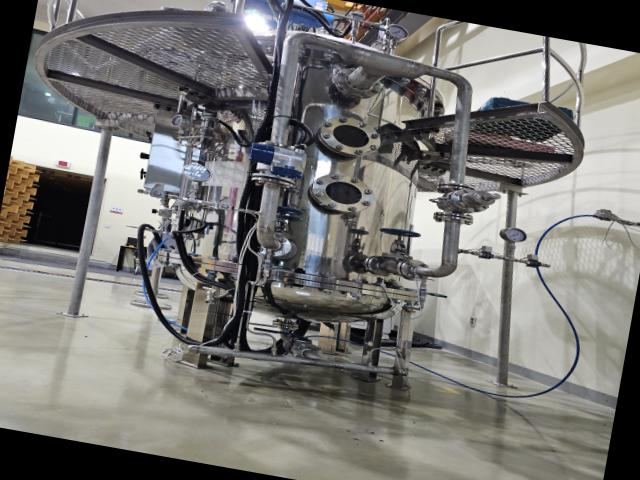Flange: (306, 168, 376, 218), (313, 112, 384, 160)
Flush Ring: (331, 64, 384, 101), (251, 230, 293, 259), (249, 170, 297, 192), (394, 256, 434, 282), (430, 206, 474, 228), (434, 178, 480, 199), (362, 253, 396, 278), (289, 340, 324, 364)
GasRegulator: (166, 106, 242, 161)
Nuts: (208, 199, 242, 213), (140, 186, 173, 200), (472, 250, 502, 262), (518, 257, 546, 269)
Piston Valve: (375, 225, 422, 262), (270, 204, 304, 240)
Pressure Gage: (180, 162, 213, 200), (496, 226, 528, 260)
